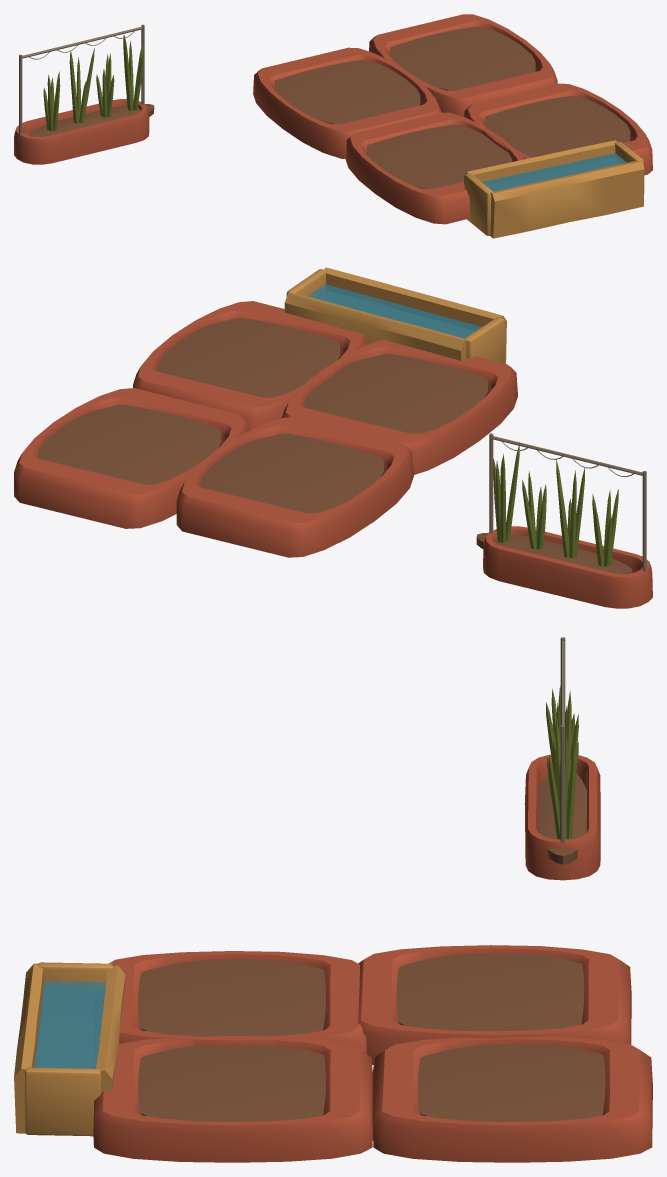
The model's file is nomad_garden_terrace_decor.fbx.
3 views of the same model, one above another, from view 1: azimuth 30°, elevation 25°; view 2: azimuth 150°, elevation 25°; view 3: azimuth 270°, elevation 25° (orthographic). The views are drawn at different scales.
Visible parts, largest first — view 1: C__PlanterBed_Spikes__03, C__FeedingTrough_Clay__01, C__PlanterBed_Spikes__04, C__PlanterBed_Spikes__06, C__PlanterBed_Spikes__01, C__PlanterBed_Spikes__05; view 2: C__PlanterBed_Spikes__03, C__PlanterBed_Spikes__06, C__PlanterBed_Spikes__04, C__PlanterBed_Spikes__05, C__PlanterBed_Spikes__01, C__FeedingTrough_Clay__01; view 3: C__PlanterBed_Spikes__06, C__PlanterBed_Spikes__05, C__PlanterBed_Spikes__03, C__PlanterBed_Spikes__04, C__FeedingTrough_Clay__01, C__PlanterBed_Spikes__01.
Boxes of the visible parts, bbox=[...] form: C__PlanterBed_Spikes__03: bbox=[253, 47, 441, 158]; C__FeedingTrough_Clay__01: bbox=[464, 140, 644, 238]; C__PlanterBed_Spikes__04: bbox=[345, 112, 524, 224]; C__PlanterBed_Spikes__06: bbox=[369, 14, 557, 116]; C__PlanterBed_Spikes__01: bbox=[14, 24, 154, 164]; C__PlanterBed_Spikes__05: bbox=[464, 83, 652, 174]; C__PlanterBed_Spikes__03: bbox=[176, 416, 413, 557]; C__PlanterBed_Spikes__06: bbox=[14, 388, 250, 528]; C__PlanterBed_Spikes__04: bbox=[282, 339, 517, 474]; C__PlanterBed_Spikes__05: bbox=[133, 301, 367, 430]; C__PlanterBed_Spikes__01: bbox=[476, 433, 652, 608]; C__FeedingTrough_Clay__01: bbox=[284, 267, 506, 363]; C__PlanterBed_Spikes__06: bbox=[372, 1036, 652, 1162]; C__PlanterBed_Spikes__05: bbox=[93, 1036, 372, 1162]; C__PlanterBed_Spikes__03: bbox=[358, 945, 631, 1064]; C__PlanterBed_Spikes__04: bbox=[104, 951, 366, 1053]; C__FeedingTrough_Clay__01: bbox=[14, 962, 125, 1136]; C__PlanterBed_Spikes__01: bbox=[524, 637, 600, 880].
Size of the model in its own units: 1761 by 419 by 1340.
